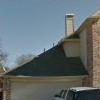Chimney: (58, 8, 81, 39)
